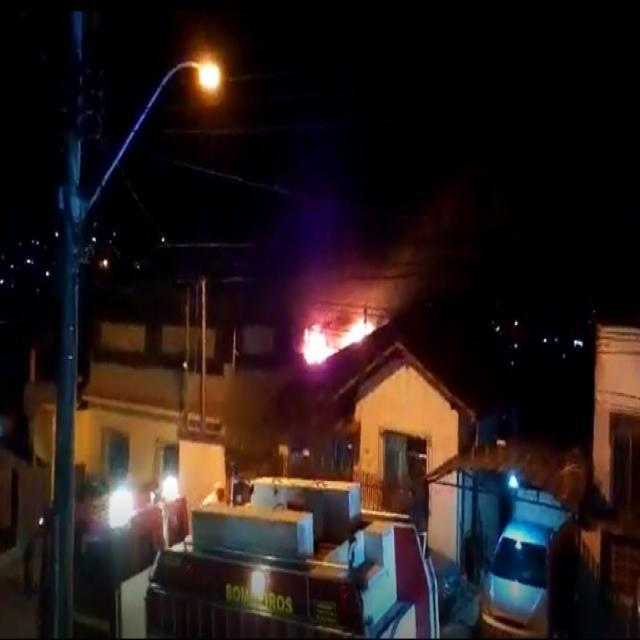Fire: (300, 314, 376, 366)
Smoke: (378, 209, 446, 319), (278, 243, 376, 307)
